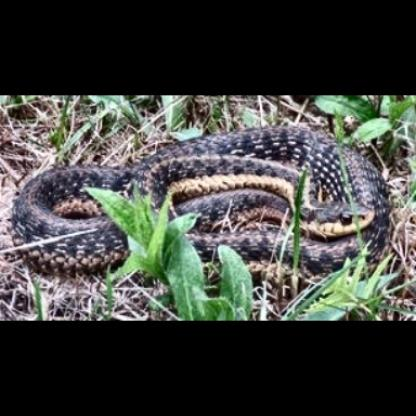Snake: (1, 121, 390, 278)
